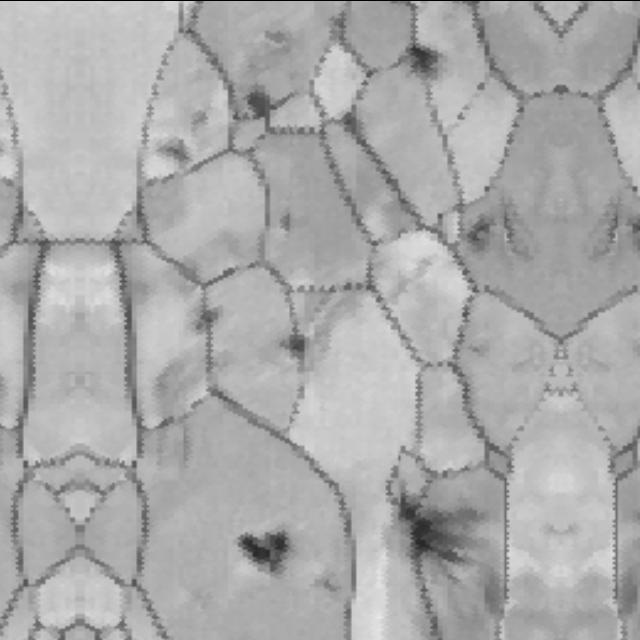good_void: (361, 470, 494, 591), (459, 189, 534, 258), (233, 519, 303, 579), (590, 191, 640, 258), (391, 32, 443, 83), (270, 326, 314, 374), (253, 23, 300, 66), (269, 202, 305, 246), (306, 561, 345, 600), (184, 300, 221, 341), (154, 133, 191, 170), (244, 74, 271, 124), (460, 333, 496, 370), (186, 110, 209, 140), (629, 342, 640, 365)
